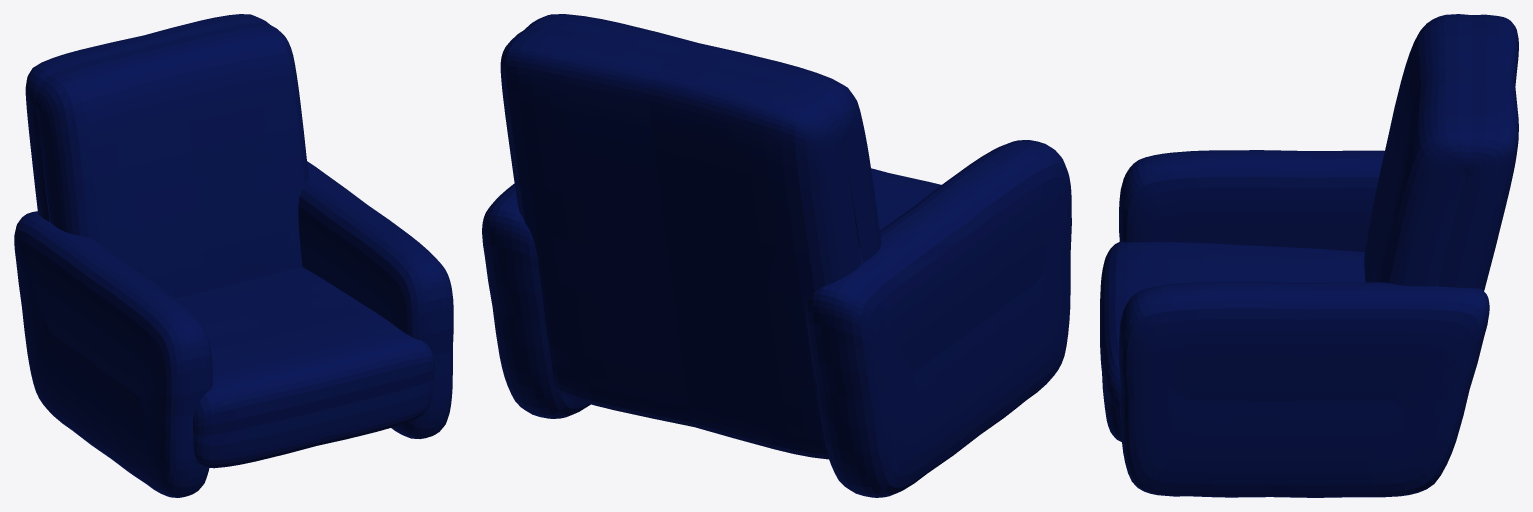
Rendered from armchair.fbx.
The picture shows the model from 3 angles, left to right: view 1: azimuth 30°, elevation 25°; view 2: azimuth 150°, elevation 25°; view 3: azimuth 270°, elevation 25°; orthographic projection. The views are drawn at different scales.
Visible parts, largest first — view 1: Assise_&_Dossier_iris_Assise_&_Dossier_iris_iris, Accoudoir_iris_Accoudoir_iris_iris, Accoudoir_1_iris_Accoudoir_1_iris_iris; view 2: Assise_&_Dossier_iris_Assise_&_Dossier_iris_iris, Accoudoir_iris_Accoudoir_iris_iris, Accoudoir_1_iris_Accoudoir_1_iris_iris; view 3: Accoudoir_1_iris_Accoudoir_1_iris_iris, Assise_&_Dossier_iris_Assise_&_Dossier_iris_iris, Accoudoir_iris_Accoudoir_iris_iris.
Part boxes in pixels (left/top/right/bottom): Assise_&_Dossier_iris_Assise_&_Dossier_iris_iris: left=25, top=14, right=434, bottom=468; Accoudoir_iris_Accoudoir_iris_iris: left=14, top=211, right=212, bottom=497; Accoudoir_1_iris_Accoudoir_1_iris_iris: left=298, top=161, right=453, bottom=438; Assise_&_Dossier_iris_Assise_&_Dossier_iris_iris: left=500, top=14, right=1036, bottom=459; Accoudoir_iris_Accoudoir_iris_iris: left=806, top=140, right=1071, bottom=497; Accoudoir_1_iris_Accoudoir_1_iris_iris: left=482, top=183, right=590, bottom=418; Accoudoir_1_iris_Accoudoir_1_iris_iris: left=1119, top=281, right=1489, bottom=497; Assise_&_Dossier_iris_Assise_&_Dossier_iris_iris: left=1100, top=14, right=1518, bottom=441; Accoudoir_iris_Accoudoir_iris_iris: left=1119, top=150, right=1455, bottom=282.
Size of the model in its own units: 1.88 by 2 by 2.1.
